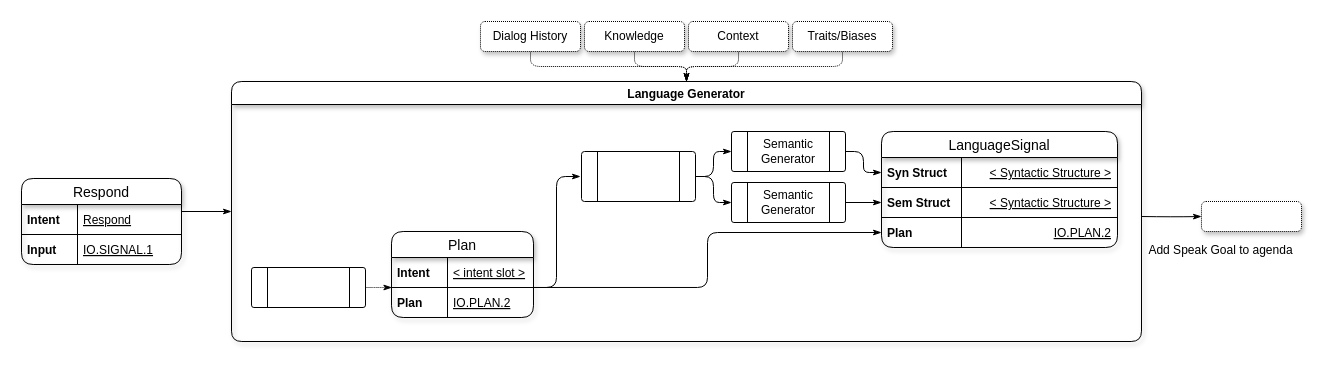
The diagram is 1325 pixels wide and 366 high, and some of its shapes have lost their labels. Each missing label, with the centre of its shape:
Agenda: pixel 1252 217
Plan Generator: pixel 308 287
Response Transformer (GPT-2): pixel 638 176
